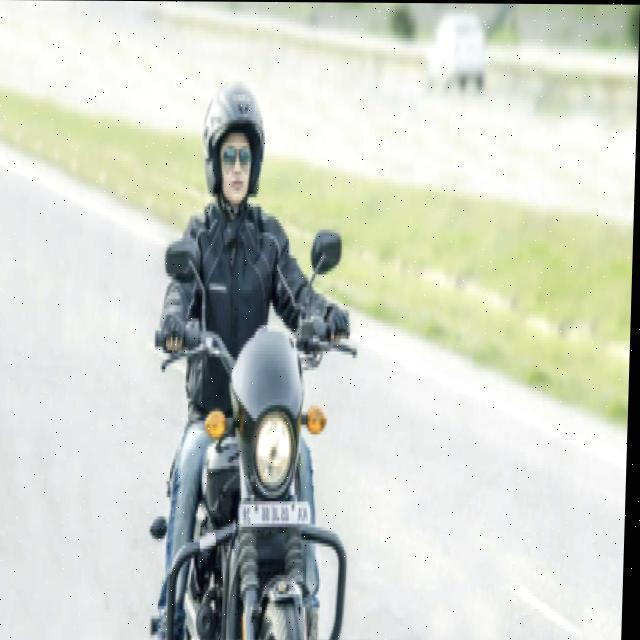Helmet: (200, 75, 270, 213)
